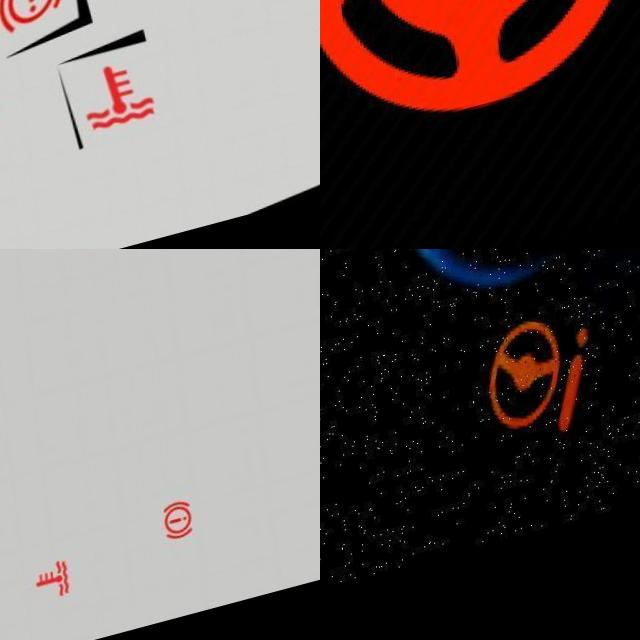Electronic Power Steering: (320, 0, 640, 176), (443, 282, 612, 491)
